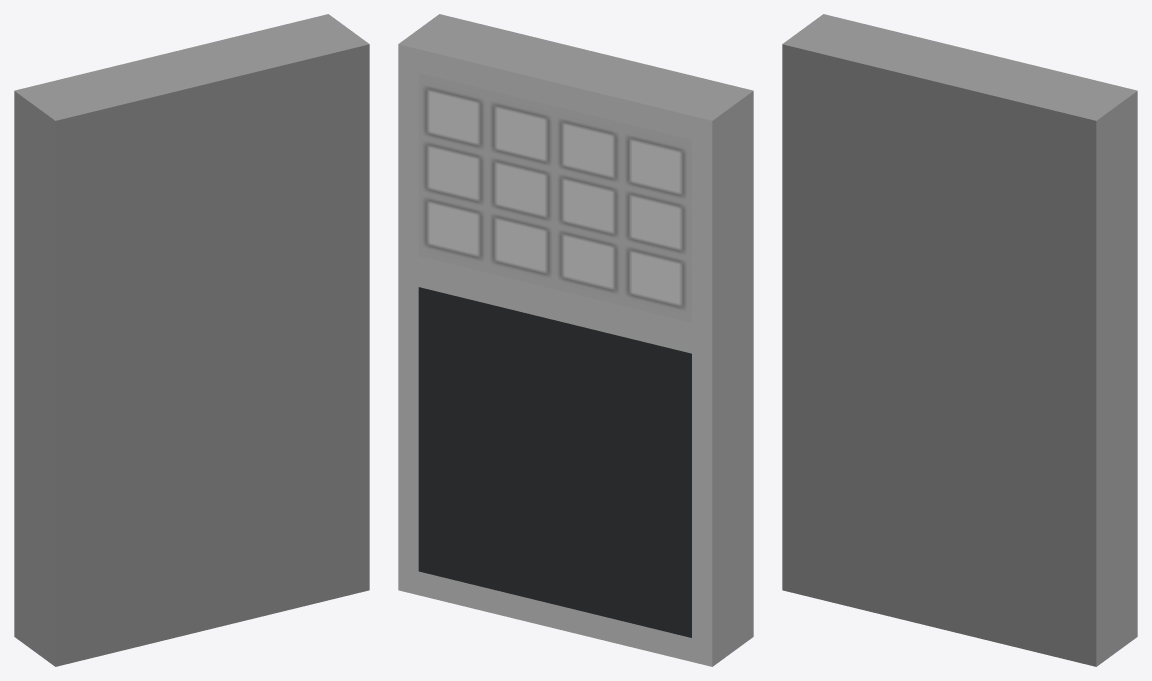
File: CellPhone.glb
3 views of the same model, side by side, from view 1: azimuth 30°, elevation 25°; view 2: azimuth 150°, elevation 25°; view 3: azimuth 330°, elevation 25° (orthographic).
Parts seen in each view (by area): view 1: SO_Cellphone; view 2: SO_Cellphone; view 3: SO_Cellphone.
Boxes of the visible parts, <box> form: SO_Cellphone: <box>14,14,369,666</box>; SO_Cellphone: <box>398,14,753,666</box>; SO_Cellphone: <box>782,14,1137,666</box>.
Bounding box in the file's own units: 0.1665 × 0.2765 × 0.0379.
1 material, 1 textured.
